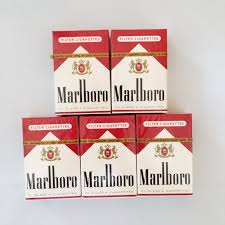marlboro: (111, 31, 167, 113), (53, 32, 109, 113), (80, 117, 136, 198), (25, 117, 78, 201), (137, 114, 190, 197)
